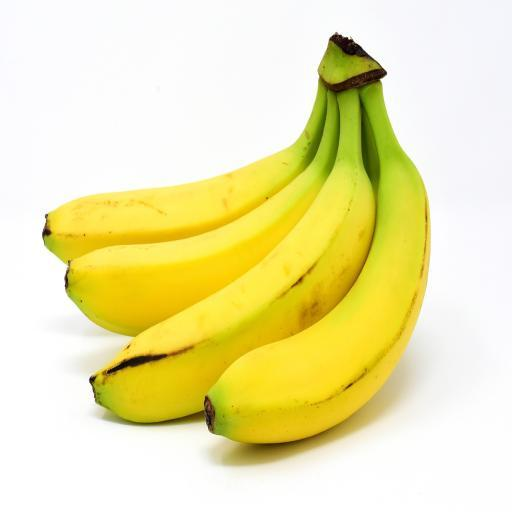banana: (90, 90, 373, 420), (205, 88, 432, 441), (65, 158, 329, 334), (41, 144, 306, 261)
